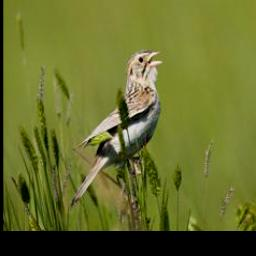Sparrow: (71, 48, 165, 206)
